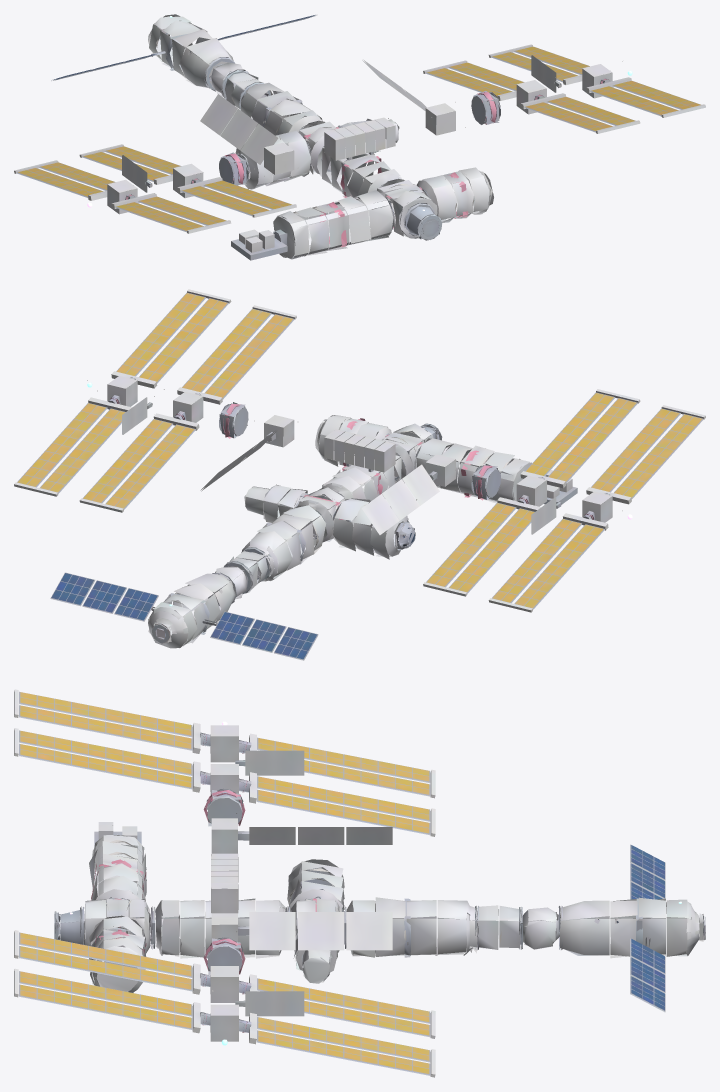
The model's file is RiftOrbitalStation.glb.
3 views of the same model, one above another, from view 1: azimuth 30°, elevation 25°; view 2: azimuth 150°, elevation 25°; view 3: azimuth 270°, elevation 25° (orthographic). The views are drawn at different scales.
Parts seen in each view (by area): view 1: iss_body; view 2: iss_body; view 3: iss_body.
Part boxes in pixels (x1=…): iss_body: x1=14, y1=14, x2=705, y2=260; iss_body: x1=14, y1=289, x2=705, y2=660; iss_body: x1=14, y1=689, x2=705, y2=1077.
Bounding box in the file's own units: 53.97 × 8.89 × 49.21.
3 materials, 1 textured.
